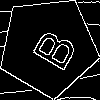B: (23, 21, 79, 73)
